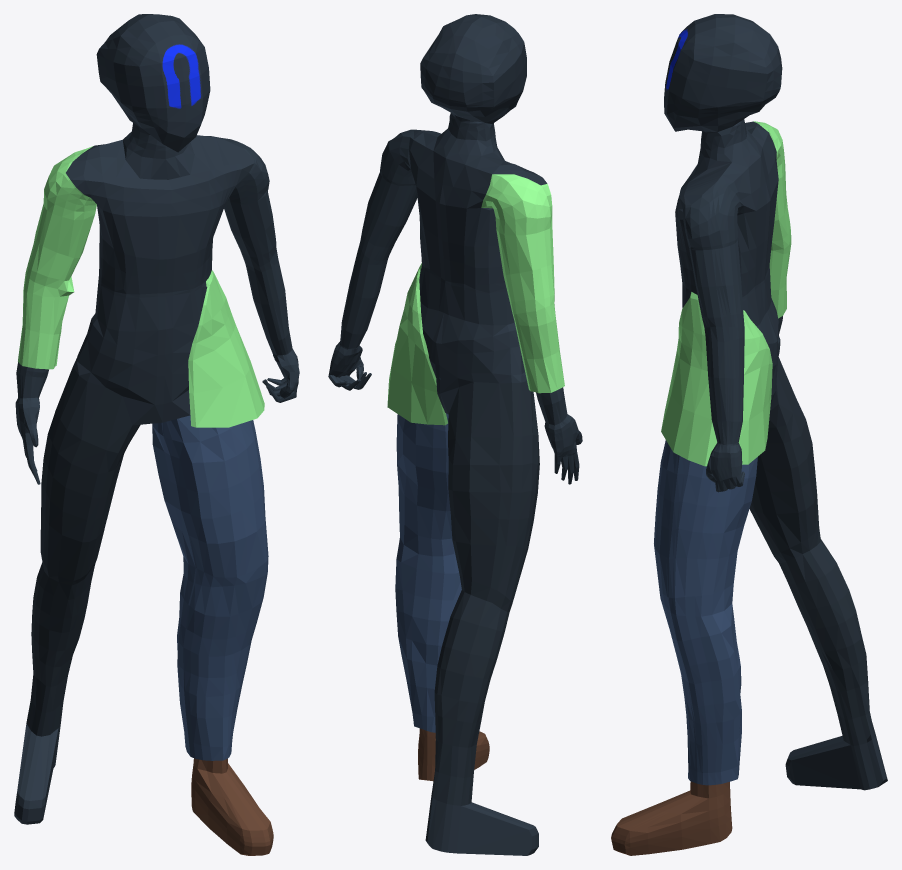
The model's file is Mar_Recover_000019.obj.
3 renders of one model, left to right at view 1: azimuth 30°, elevation 25°; view 2: azimuth 150°, elevation 25°; view 3: azimuth 270°, elevation 25°, orthographic. The views are drawn at different scales.
Parts seen in each view (by area): view 1: Cube.000_Cube.001; view 2: Cube.000_Cube.001; view 3: Cube.000_Cube.001.
Part boxes in pixels (x1,y1,x2,y2): Cube.000_Cube.001: (14,14,299,855); Cube.000_Cube.001: (328,14,582,855); Cube.000_Cube.001: (611,14,887,855).
Size of the model in its own units: 1.34 by 3.96 by 1.23.
